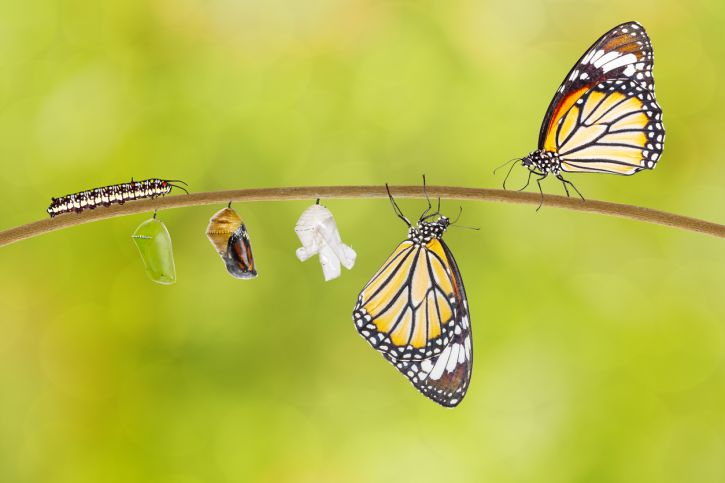Butterfly: (495, 20, 668, 211), (350, 180, 484, 415)
Caterpillar: (45, 176, 189, 217)
